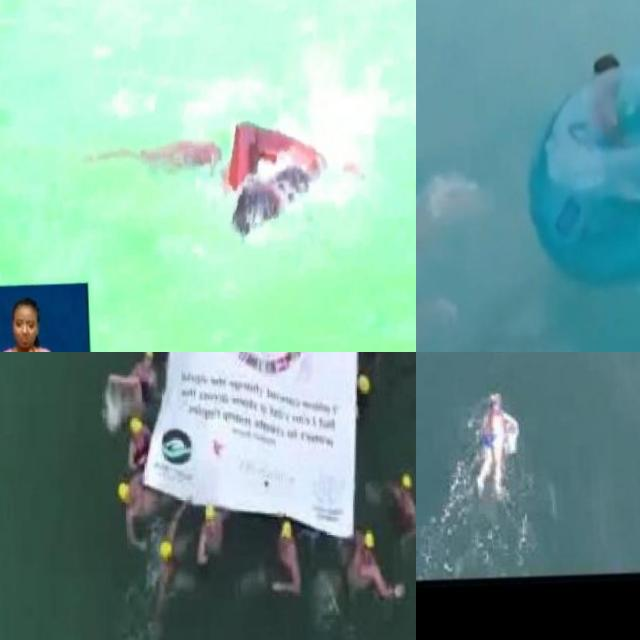drowning: (416, 148, 464, 352)
swimming: (72, 87, 382, 254), (464, 386, 524, 505), (350, 528, 390, 614), (265, 520, 303, 604), (385, 462, 416, 546), (192, 509, 228, 576), (117, 409, 148, 467)
